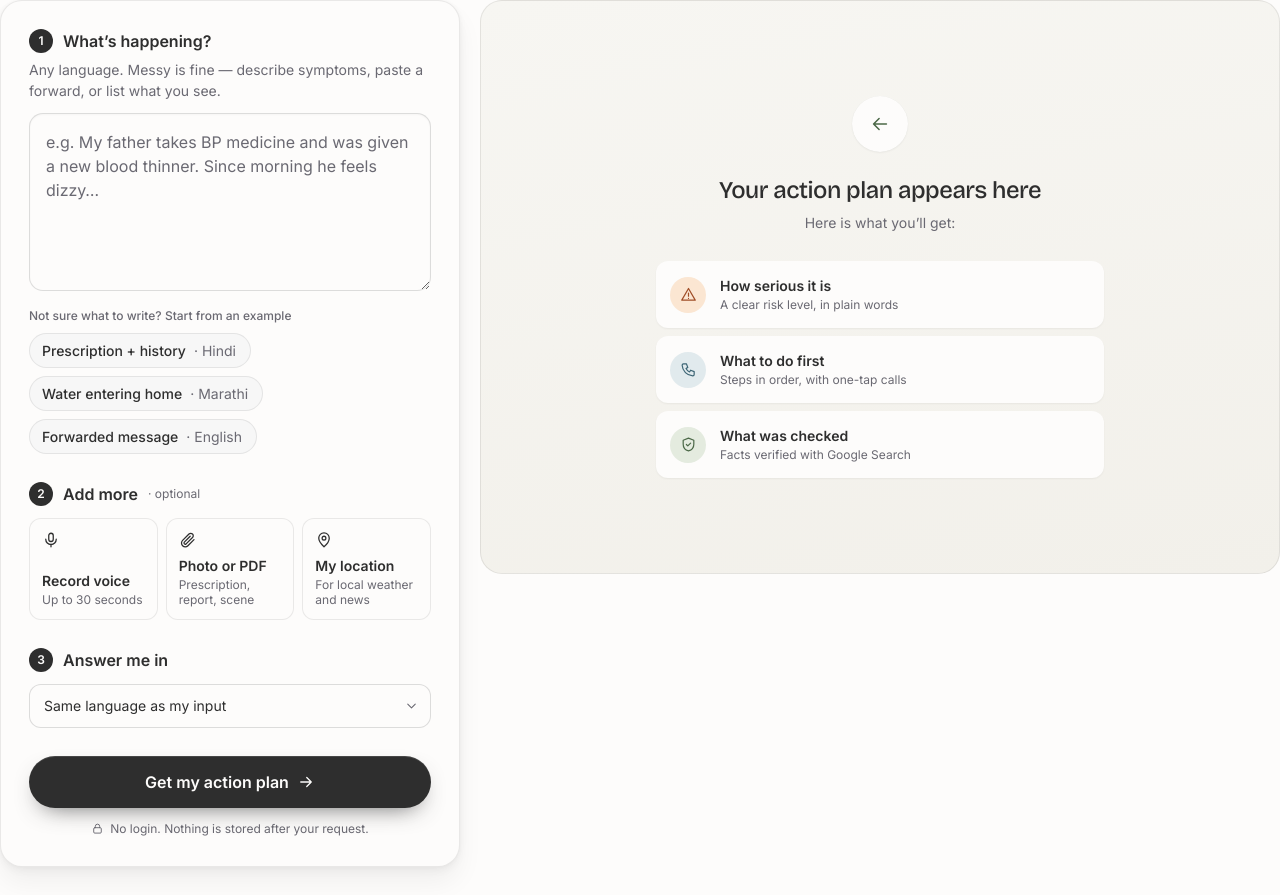
Test: Workspace › explains a blocked microphone
Click the button "Record voice Up to 30 seconds".
click(93, 569)  # box [29,518,158,620]
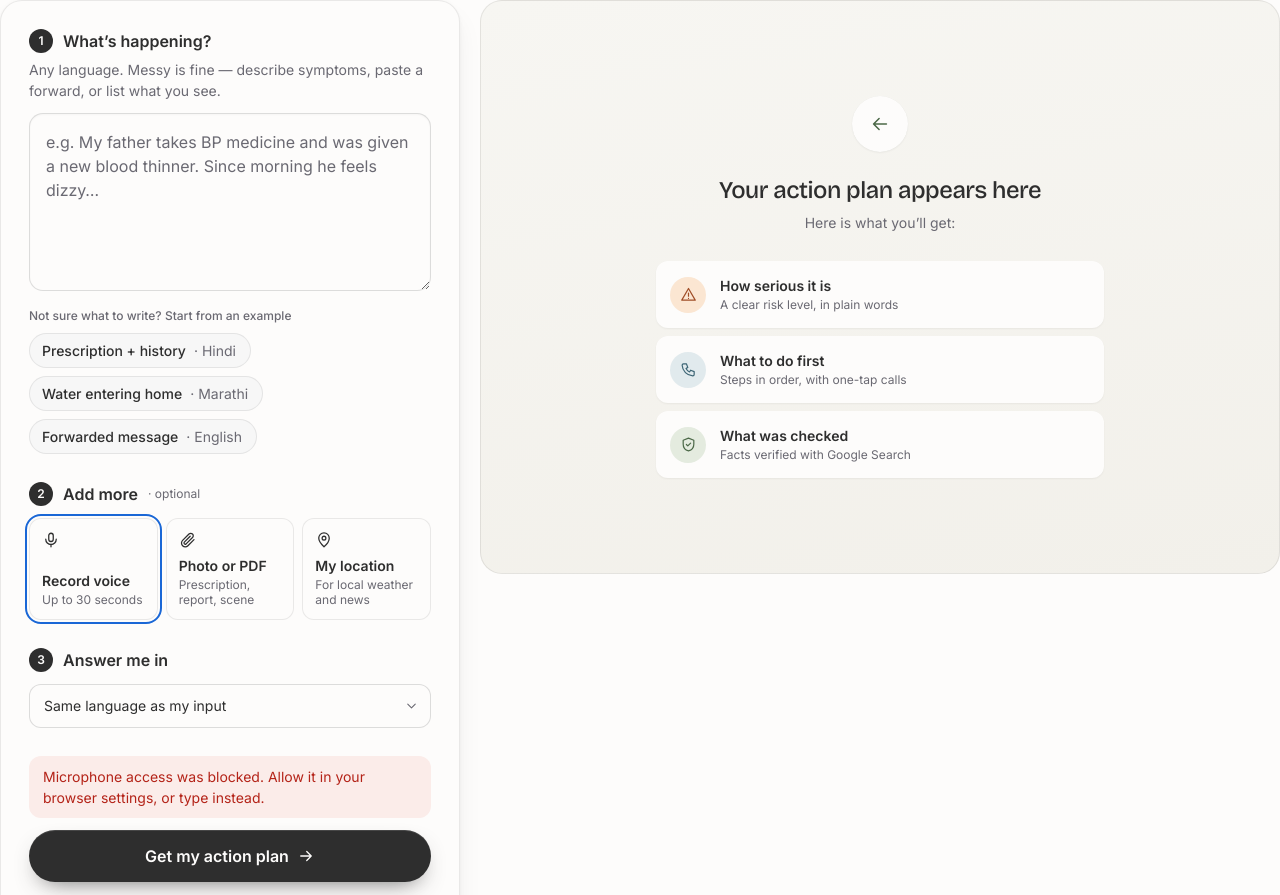
Now the message shows "Microphone access was blocked.", box [43,768,365,806]
